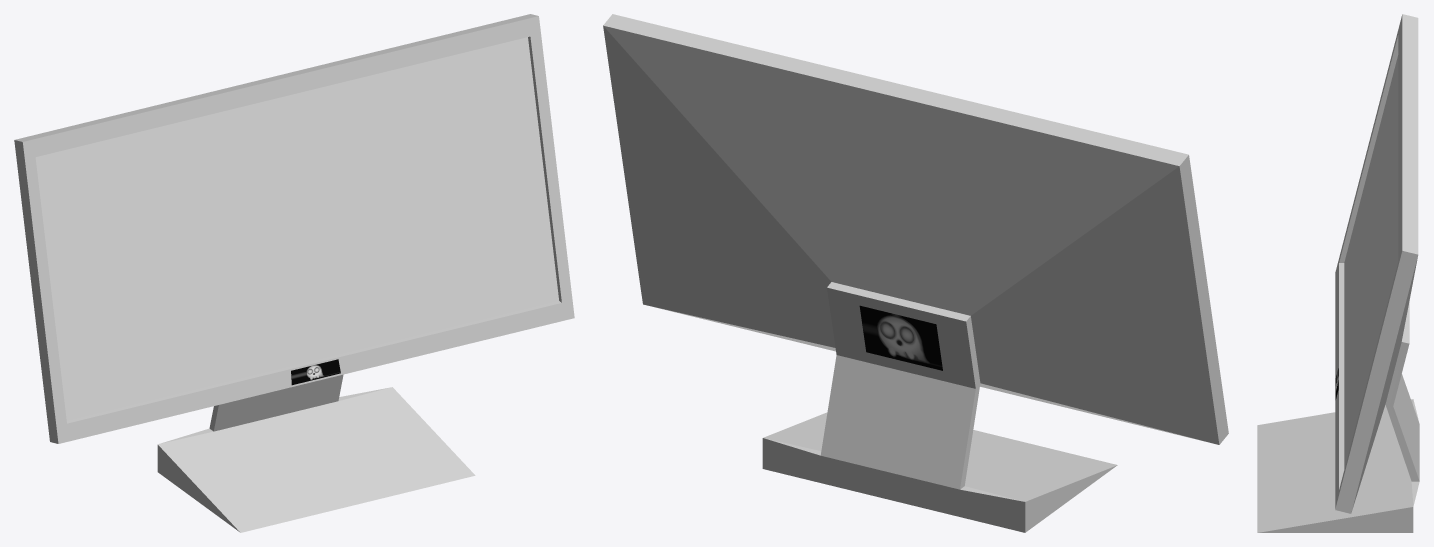
Rendered from Monitor.fbx.
3 renders of one model, left to right at view 1: azimuth 30°, elevation 25°; view 2: azimuth 150°, elevation 25°; view 3: azimuth 270°, elevation 25°, orthographic. The views are drawn at different scales.
Visible parts, largest first — view 1: Monitor; view 2: Monitor; view 3: Monitor.
Part boxes in pixels (bbox=[...]): Monitor: bbox=[14, 14, 574, 532]; Monitor: bbox=[603, 14, 1228, 532]; Monitor: bbox=[1257, 14, 1419, 532].
Size of the model in its own units: 55.22 by 37.7 by 16.01.
